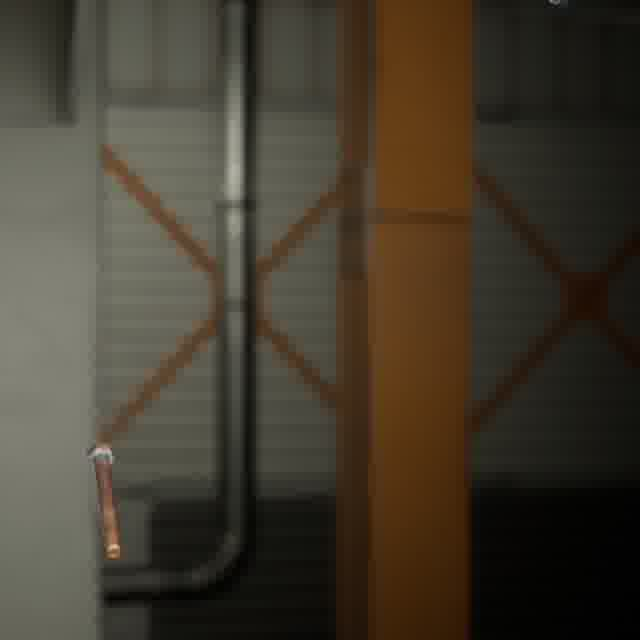bolt: (82, 438, 126, 562)
